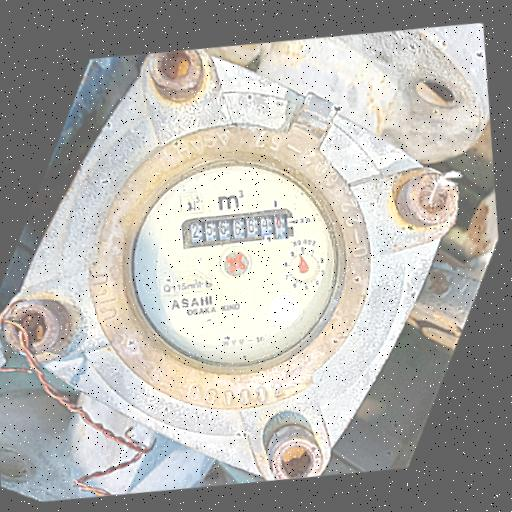2: (189, 221, 204, 242)
4: (260, 214, 273, 235)
5: (204, 220, 217, 241)
6: (232, 216, 245, 238), (246, 215, 259, 236), (218, 218, 230, 240)
8: (273, 213, 286, 239)
border_water_meter_number: (179, 203, 297, 253)
